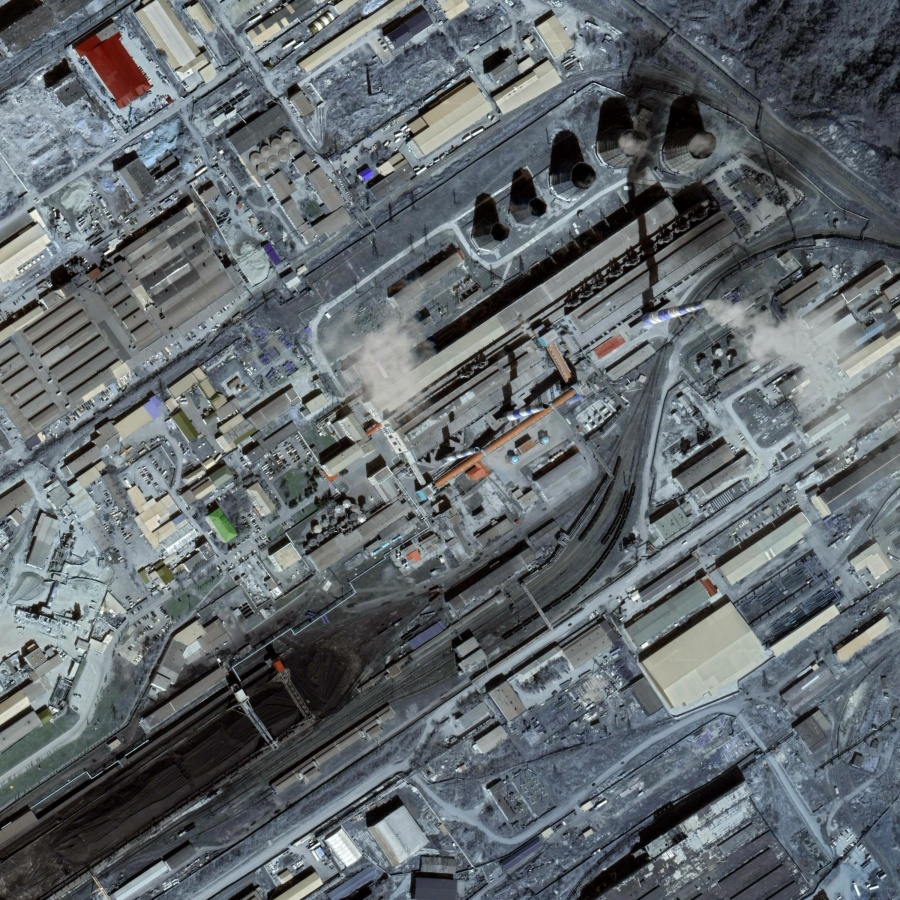PowerPlant: (373, 73, 820, 443)
